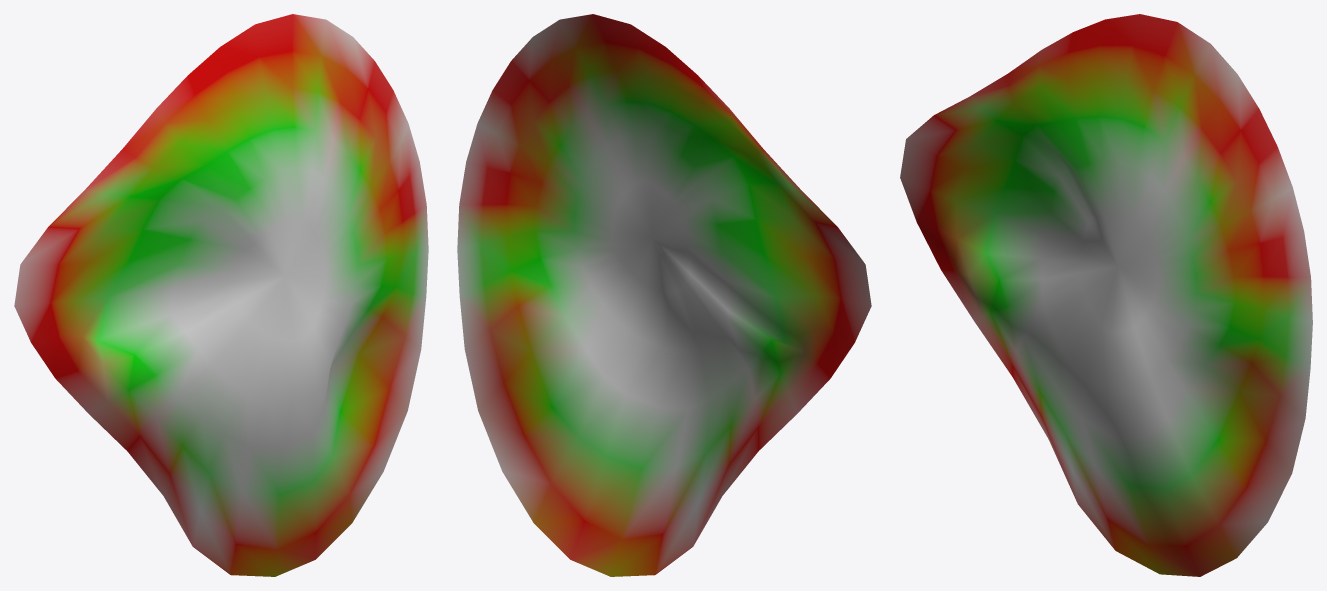
The model's file is Terrain_09.fbx.
3 views of the same model, side by side, from view 1: azimuth 30°, elevation 25°; view 2: azimuth 150°, elevation 25°; view 3: azimuth 330°, elevation 25° (orthographic).
Visible parts, largest first — view 1: Sphere.002; view 2: Sphere.002; view 3: Sphere.002.
Boxes of the visible parts, bbox=[...] form: Sphere.002: bbox=[14, 14, 428, 576]; Sphere.002: bbox=[457, 14, 871, 576]; Sphere.002: bbox=[900, 14, 1312, 576].
Bounding box in the file's own units: 90.52 × 117 × 14.15.
